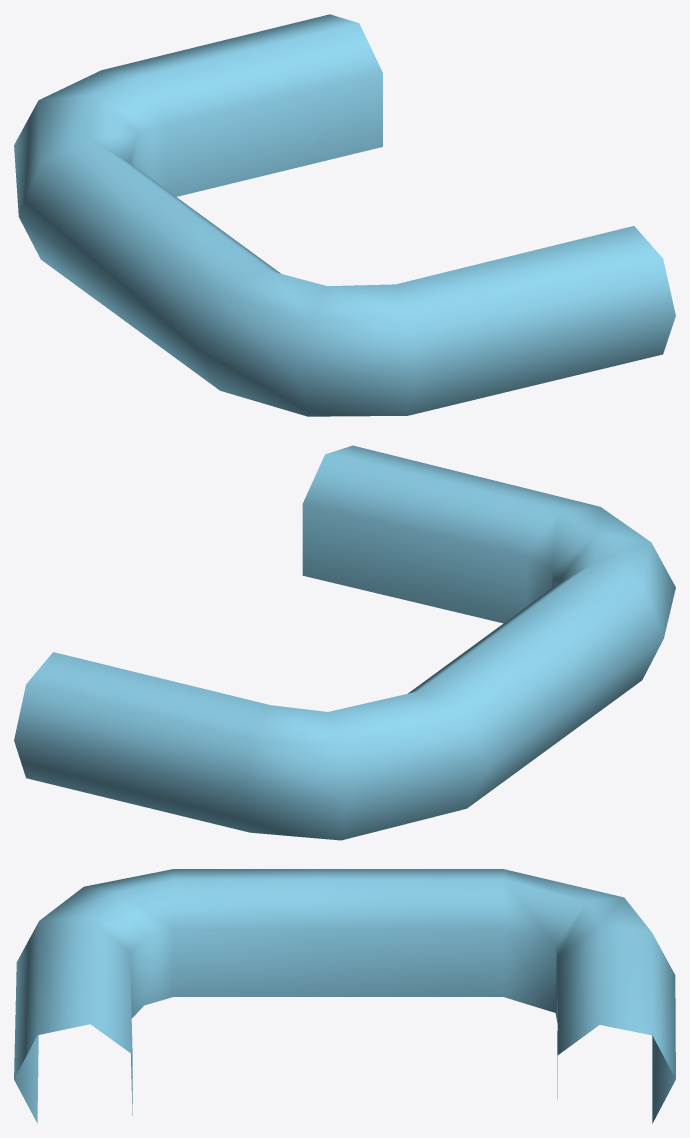
Rendered from Norris_Maze_Blue_Wire_C.fbx.
3 views of the same model, one above another, from view 1: azimuth 30°, elevation 25°; view 2: azimuth 150°, elevation 25°; view 3: azimuth 270°, elevation 25° (orthographic). The views are drawn at different scales.
Parts seen in each view (by area): view 1: WireC4; view 2: WireC4; view 3: WireC4.
Boxes of the visible parts, <box> form: WireC4: <box>14,14,675,416</box>; WireC4: <box>14,445,675,840</box>; WireC4: <box>14,869,675,1123</box>.
Size of the model in its own units: 3.79 by 0.9939 by 6.
